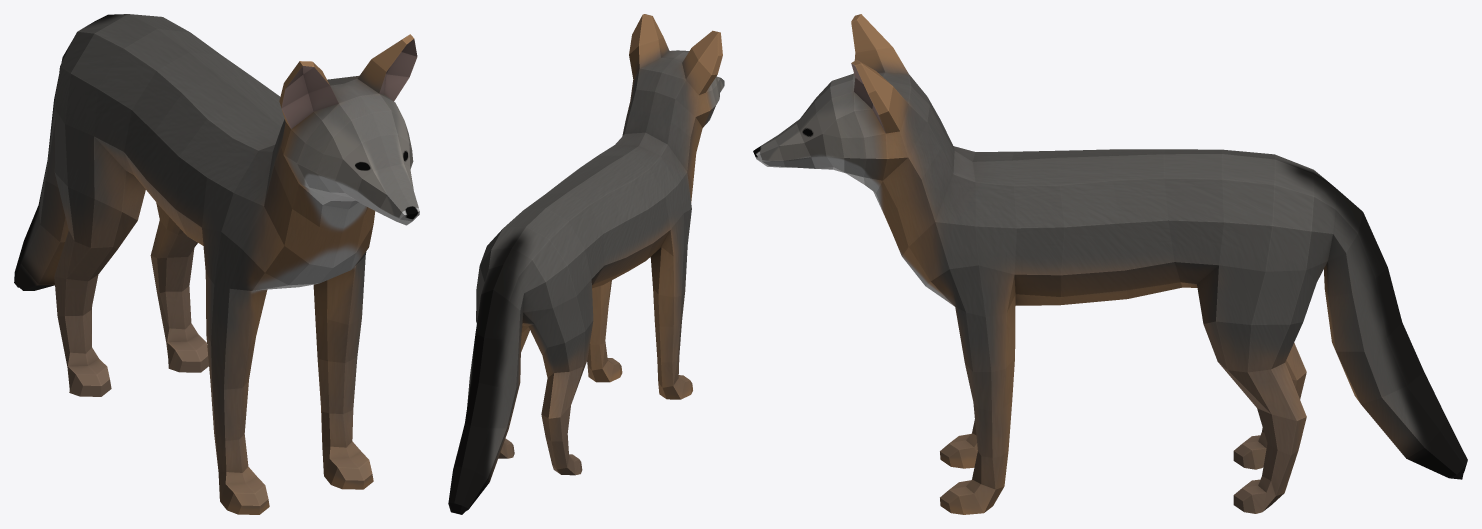
The model's file is 0a4f1c63-737c-4e28-a369-c48766037dbf.glb.
3 renders of one model, left to right at view 1: azimuth 30°, elevation 25°; view 2: azimuth 150°, elevation 25°; view 3: azimuth 270°, elevation 25°, orthographic. The views are drawn at different scales.
Parts seen in each view (by area): view 1: GrayFox_Mesh; view 2: GrayFox_Mesh; view 3: GrayFox_Mesh.
Part boxes in pixels (x1=…): GrayFox_Mesh: x1=14, y1=14, x2=419, y2=514; GrayFox_Mesh: x1=448, y1=14, x2=724, y2=514; GrayFox_Mesh: x1=753, y1=14, x2=1467, y2=514.
Size of the model in its own units: 1.15 by 3.62 by 5.28.
1 material, 1 textured.
